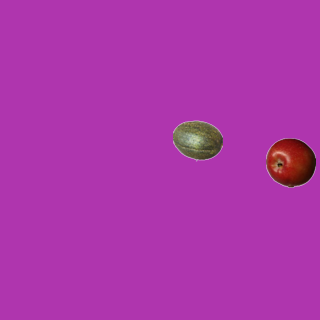Apple Braeburn: (265, 137, 315, 187)
Melon Piel de Sapo: (172, 115, 222, 165)
